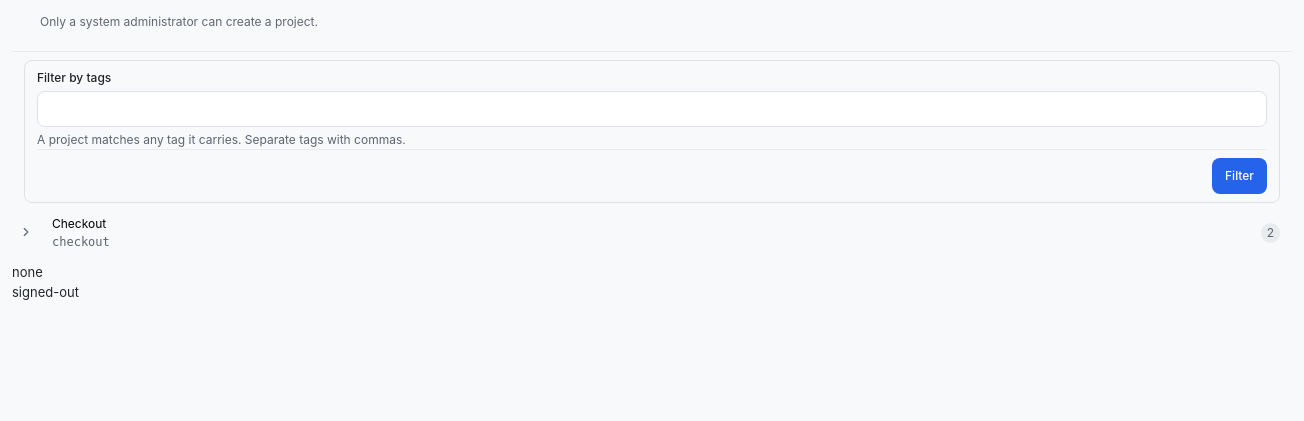
it: ProjectExplorer › renders suites, their cases and the cases the project owns directly
This screenshot has width=1304, height=421.
Click the button named "Expand Checkout": (26, 233) [12,207,40,259]
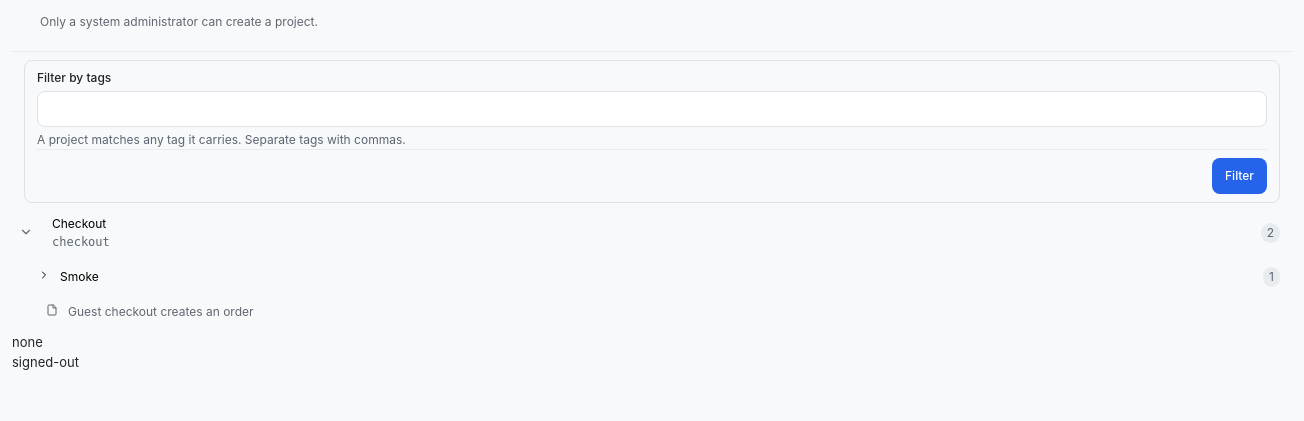
Click the button with aria-label "Checkout (checkout), 2 items": (79, 224) [40,207,1292,259]
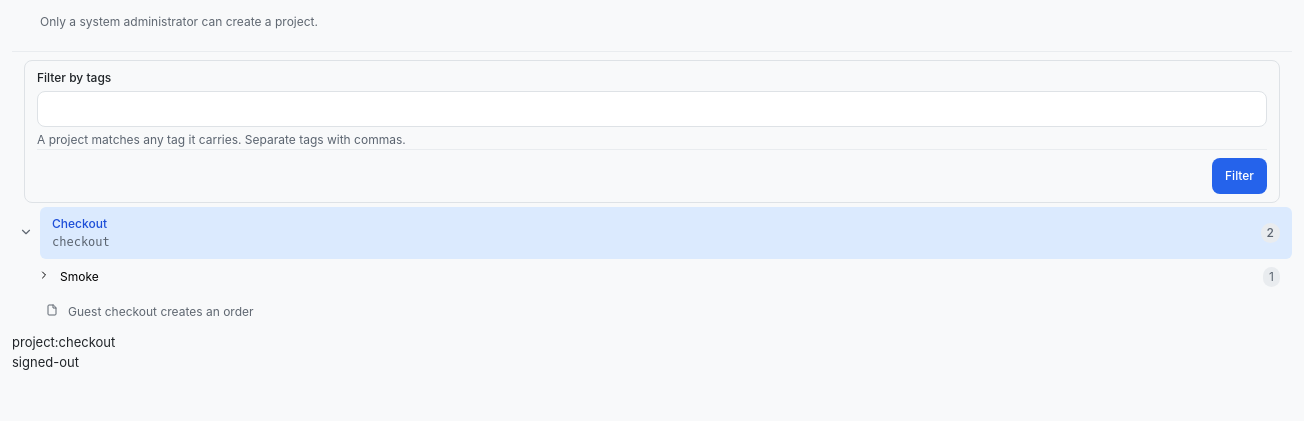
Click the button "Guest checkout creates an order": (161, 312) [12,295,1292,329]
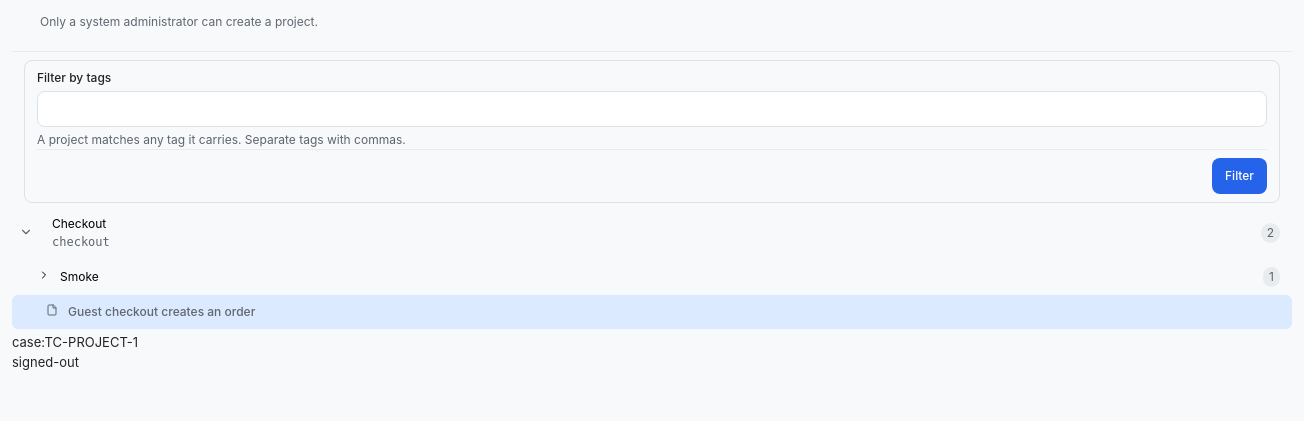
Result: the text with test id "selection" reads "case:TC-PROJECT-1" at [12,334,138,350]
# A suite keeps nesting its own cases under itself.
Click the button "Smoke 1": (79, 276) [12,259,1292,295]
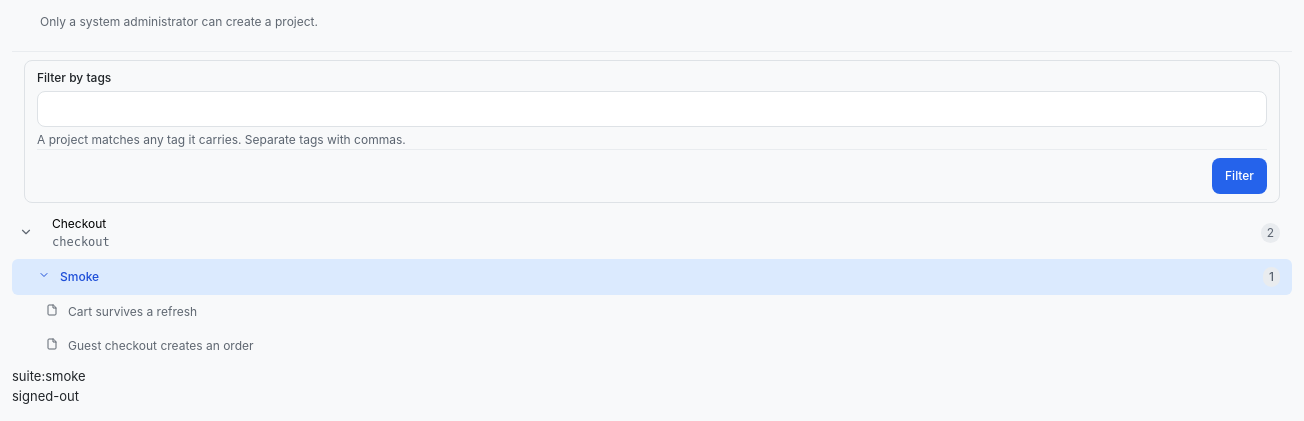
Click the button "Cart survives a refresh": (133, 312) [12,295,1292,329]
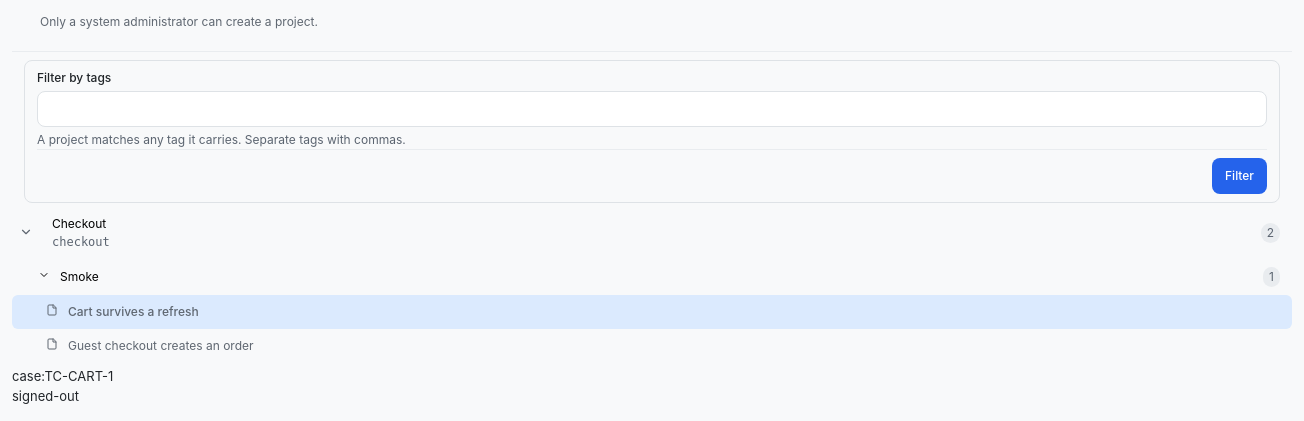
Result: the text with test id "selection" reads "case:TC-CART-1" at [12,368,113,384]
